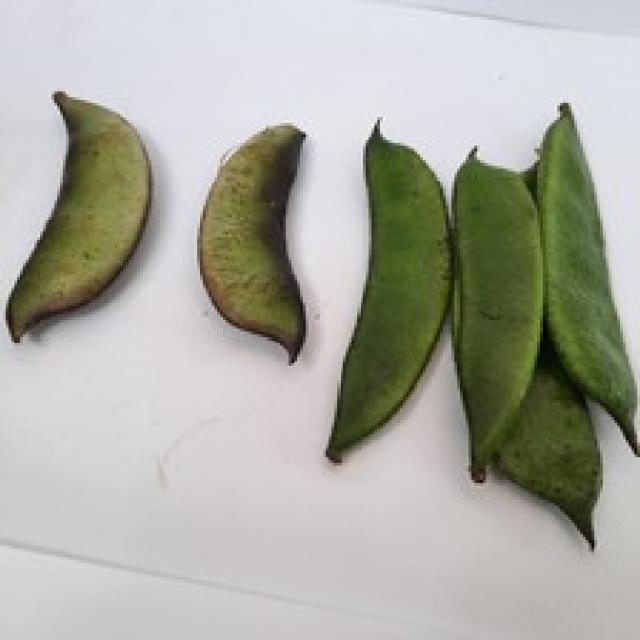Bean: (323, 114, 451, 463), (3, 88, 151, 343), (534, 100, 637, 454), (448, 143, 543, 480), (194, 120, 306, 363)
